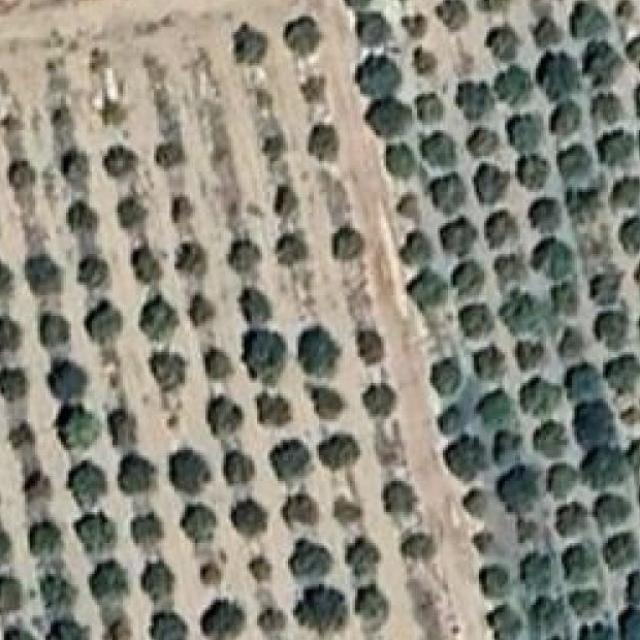Tree: (353, 53, 408, 105), (293, 589, 347, 636), (293, 324, 339, 376), (505, 288, 551, 339), (241, 329, 285, 380), (193, 596, 242, 640), (133, 295, 176, 344), (63, 459, 110, 503), (497, 466, 541, 513), (288, 541, 331, 589), (48, 357, 92, 401), (81, 303, 123, 349), (579, 448, 628, 487), (531, 50, 576, 92), (121, 450, 160, 498), (267, 440, 312, 481), (208, 390, 246, 438), (500, 110, 546, 148), (394, 527, 435, 569), (443, 438, 485, 479), (172, 450, 212, 492), (577, 401, 616, 444), (23, 252, 61, 296), (352, 586, 386, 635), (567, 187, 608, 227), (59, 409, 102, 447), (391, 233, 435, 270), (443, 210, 479, 255), (407, 264, 445, 306), (76, 251, 110, 297), (283, 20, 324, 58), (588, 41, 626, 82), (484, 603, 526, 640), (539, 417, 575, 460), (152, 350, 187, 394), (230, 494, 268, 534), (551, 502, 593, 538), (366, 104, 410, 138), (259, 391, 292, 436), (90, 562, 129, 600), (23, 520, 64, 556), (608, 349, 640, 395), (319, 432, 362, 466), (520, 376, 558, 414), (474, 558, 512, 596), (221, 233, 260, 270), (4, 156, 41, 195), (534, 237, 571, 276), (56, 148, 96, 184), (102, 146, 144, 180), (460, 78, 494, 120), (108, 403, 144, 442), (592, 87, 628, 126), (76, 512, 110, 553), (546, 97, 580, 138), (528, 598, 562, 639), (128, 247, 164, 285), (172, 242, 208, 280), (286, 492, 322, 530), (358, 324, 394, 362), (524, 195, 562, 231), (520, 554, 558, 590), (560, 541, 596, 579), (564, 584, 602, 620), (302, 125, 338, 162), (567, 364, 604, 400), (216, 450, 254, 485), (234, 29, 272, 64), (515, 156, 553, 191), (471, 164, 506, 202), (592, 270, 628, 306), (567, 0, 604, 35), (422, 132, 460, 166), (430, 172, 464, 210), (592, 313, 630, 347), (543, 466, 577, 504), (6, 417, 39, 456), (180, 507, 216, 542), (40, 577, 76, 612), (146, 610, 188, 640), (0, 577, 32, 616), (608, 533, 640, 572), (37, 313, 73, 347), (144, 562, 178, 598), (332, 225, 368, 259), (598, 130, 632, 166), (494, 251, 530, 285), (479, 390, 515, 424), (379, 140, 417, 172), (133, 512, 167, 547), (384, 478, 419, 512), (412, 89, 447, 123), (482, 208, 517, 242), (453, 259, 487, 294), (476, 349, 510, 384), (237, 285, 270, 321), (551, 328, 584, 364), (355, 16, 394, 46), (66, 197, 100, 231), (22, 468, 56, 502), (430, 355, 462, 391), (488, 27, 522, 60), (499, 66, 532, 100), (461, 304, 494, 338), (270, 236, 304, 268), (467, 125, 498, 160), (112, 198, 148, 228), (560, 140, 590, 176), (494, 428, 524, 464), (350, 538, 380, 573), (257, 603, 286, 639), (302, 70, 334, 102), (154, 138, 186, 170), (206, 349, 237, 382), (308, 383, 338, 417), (468, 528, 502, 558), (366, 383, 396, 416), (392, 190, 426, 219), (462, 486, 491, 520), (596, 495, 630, 524), (613, 174, 640, 210), (272, 187, 304, 217), (244, 556, 274, 588), (551, 285, 583, 315), (260, 130, 287, 165), (338, 494, 364, 530), (515, 517, 546, 547), (518, 336, 547, 368), (0, 364, 26, 398), (0, 252, 17, 301), (438, 0, 470, 26), (190, 292, 215, 325), (0, 316, 20, 357), (48, 620, 89, 640), (412, 42, 442, 69), (534, 12, 560, 42), (0, 518, 15, 569), (615, 610, 640, 640), (438, 403, 463, 432), (625, 28, 640, 75), (169, 197, 194, 223), (580, 622, 616, 640), (407, 6, 430, 34), (198, 562, 227, 584), (623, 569, 640, 603), (621, 221, 640, 251), (104, 622, 135, 640), (628, 434, 640, 478), (479, 0, 515, 14), (616, 0, 640, 20), (1, 625, 30, 640), (343, 0, 378, 10), (636, 75, 640, 117), (636, 125, 640, 153), (637, 259, 640, 296)
